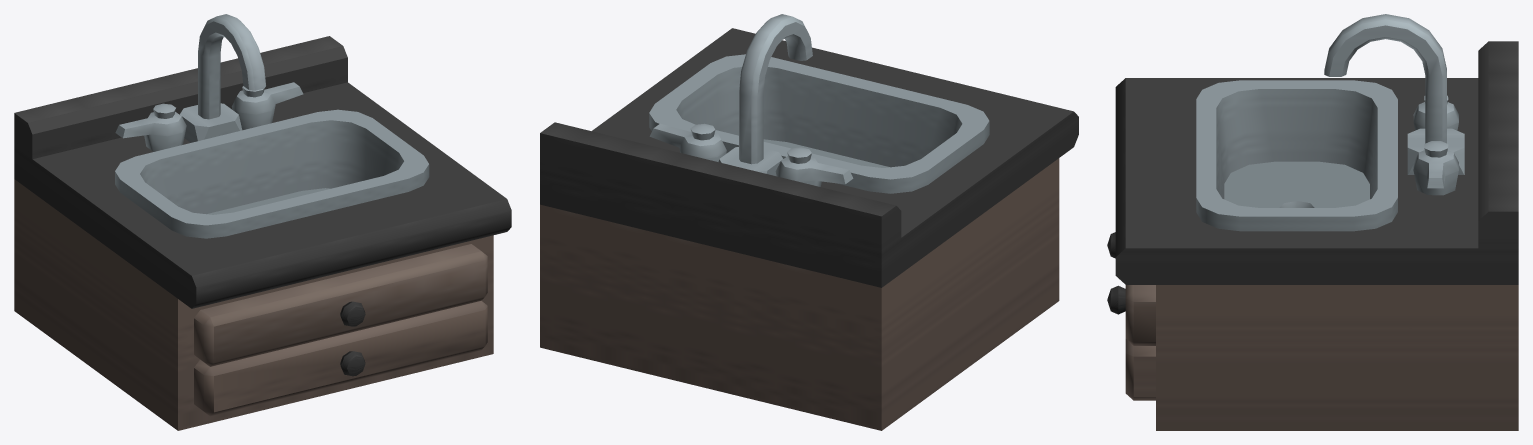
File: kitchencounter_sink_backsplash_styleB.gltf
3 renders of one model, left to right at view 1: azimuth 30°, elevation 25°; view 2: azimuth 150°, elevation 25°; view 3: azimuth 270°, elevation 25°, orthographic. The views are drawn at different scales.
Visible parts, largest first — view 1: kitchencounter_sink_backsplash_styleB; view 2: kitchencounter_sink_backsplash_styleB; view 3: kitchencounter_sink_backsplash_styleB.
Part boxes in pixels (x1,y1,x2,y2): kitchencounter_sink_backsplash_styleB: (14, 14, 511, 430); kitchencounter_sink_backsplash_styleB: (540, 14, 1078, 430); kitchencounter_sink_backsplash_styleB: (1107, 14, 1518, 430).
Size of the model in its own units: 2 by 1.8 by 2.04.
Materials: 1 (1 with a texture image).
